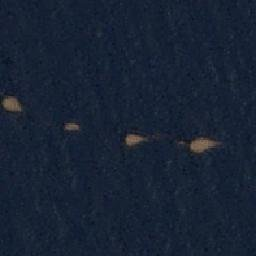debris: (185, 136, 219, 154), (3, 94, 22, 114), (121, 134, 146, 145), (65, 122, 81, 132)
